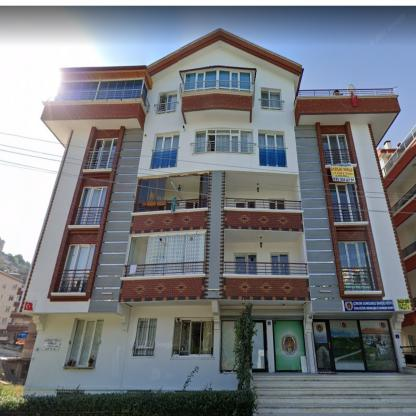door: (313, 320, 334, 372)
window: (329, 320, 399, 372), (56, 79, 147, 103), (66, 319, 104, 367), (338, 242, 376, 290), (59, 244, 95, 292), (273, 319, 305, 372), (184, 68, 251, 92), (172, 318, 213, 357), (194, 130, 253, 153), (329, 183, 361, 222), (75, 186, 107, 224), (135, 178, 165, 213), (321, 134, 350, 164), (89, 139, 118, 168), (252, 320, 268, 371), (221, 318, 236, 372), (134, 320, 156, 356), (234, 252, 257, 274), (154, 134, 180, 150), (271, 253, 290, 274), (261, 91, 281, 110), (259, 133, 284, 148), (199, 174, 207, 207), (158, 93, 167, 113), (166, 94, 176, 112)
